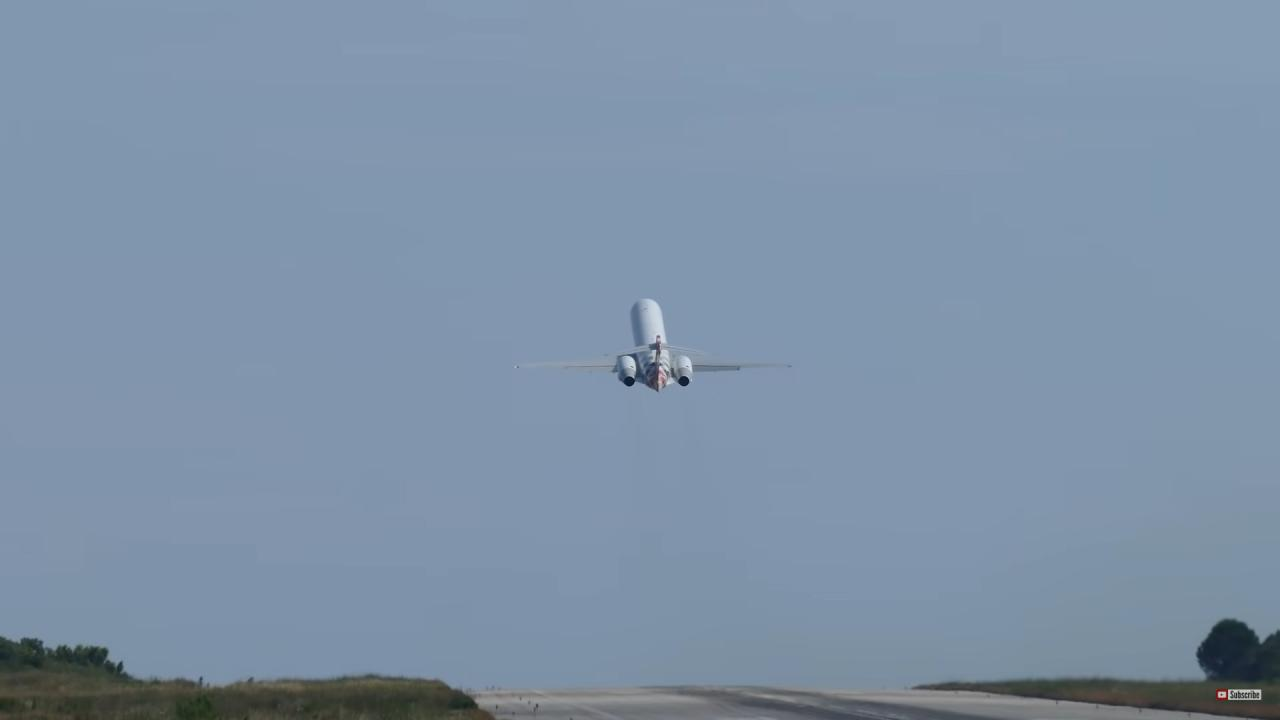Airplane: (499, 287, 806, 402)
